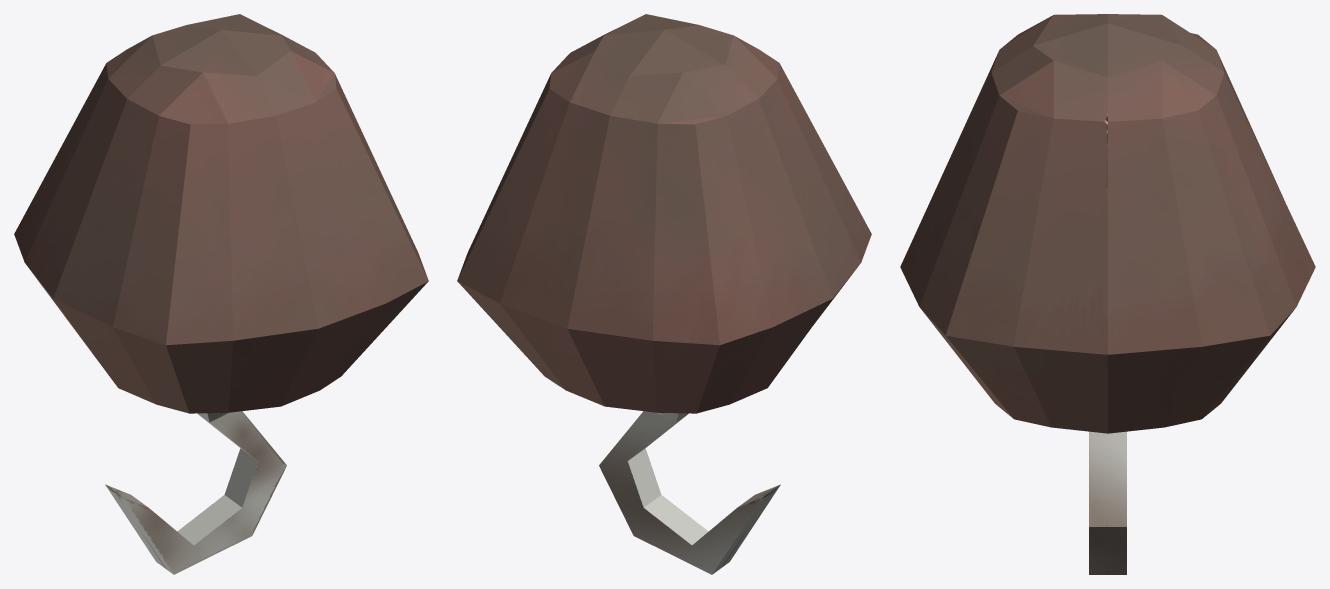
File: ThrowingAxeArm 1.glb
3 renders of one model, left to right at view 1: azimuth 30°, elevation 25°; view 2: azimuth 150°, elevation 25°; view 3: azimuth 270°, elevation 25°, orthographic. The views are drawn at different scales.
Visible parts, largest first — view 1: ThrowingAxeArm; view 2: ThrowingAxeArm; view 3: ThrowingAxeArm.
Part boxes in pixels (x1,y1,x2,y2): ThrowingAxeArm: [14, 14, 428, 574]; ThrowingAxeArm: [457, 14, 871, 574]; ThrowingAxeArm: [900, 14, 1315, 574].
Size of the model in its own units: 1.48 by 2.2 by 1.48.
1 material, 1 textured.
